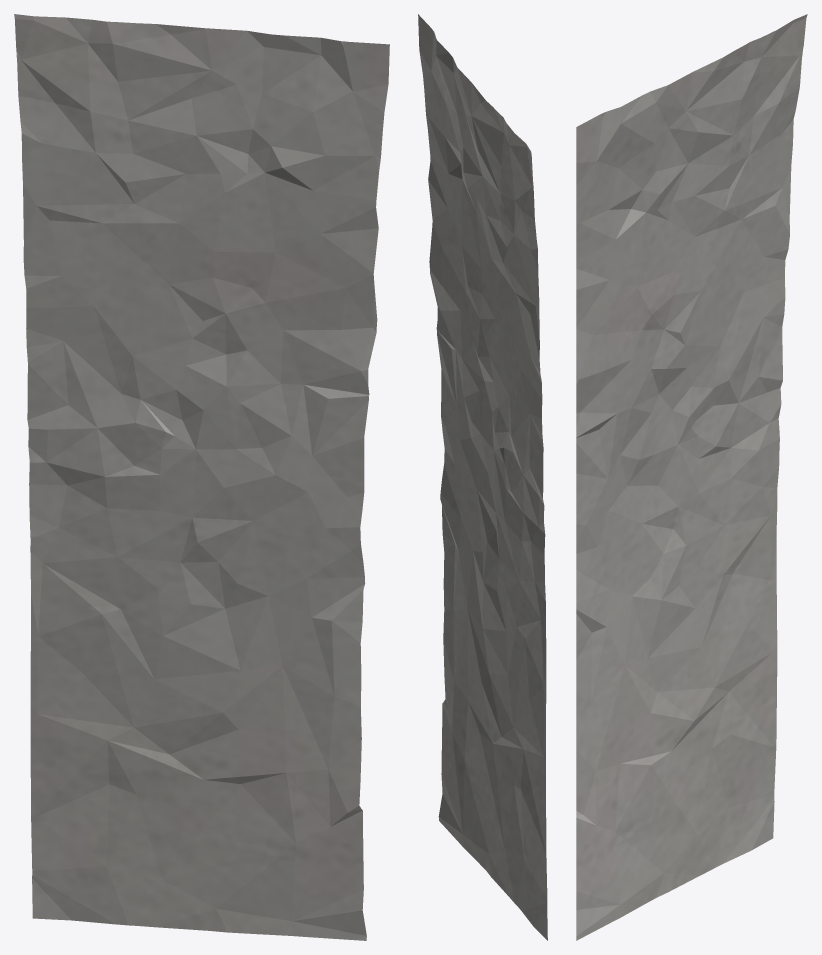
3 views of the same model, side by side, from view 1: azimuth 30°, elevation 25°; view 2: azimuth 150°, elevation 25°; view 3: azimuth 270°, elevation 25° (orthographic). The views are drawn at different scales.
Bounding box in the file's own units: 0.2466 × 0.8374 × 0.2131.
1 material, 1 textured.
